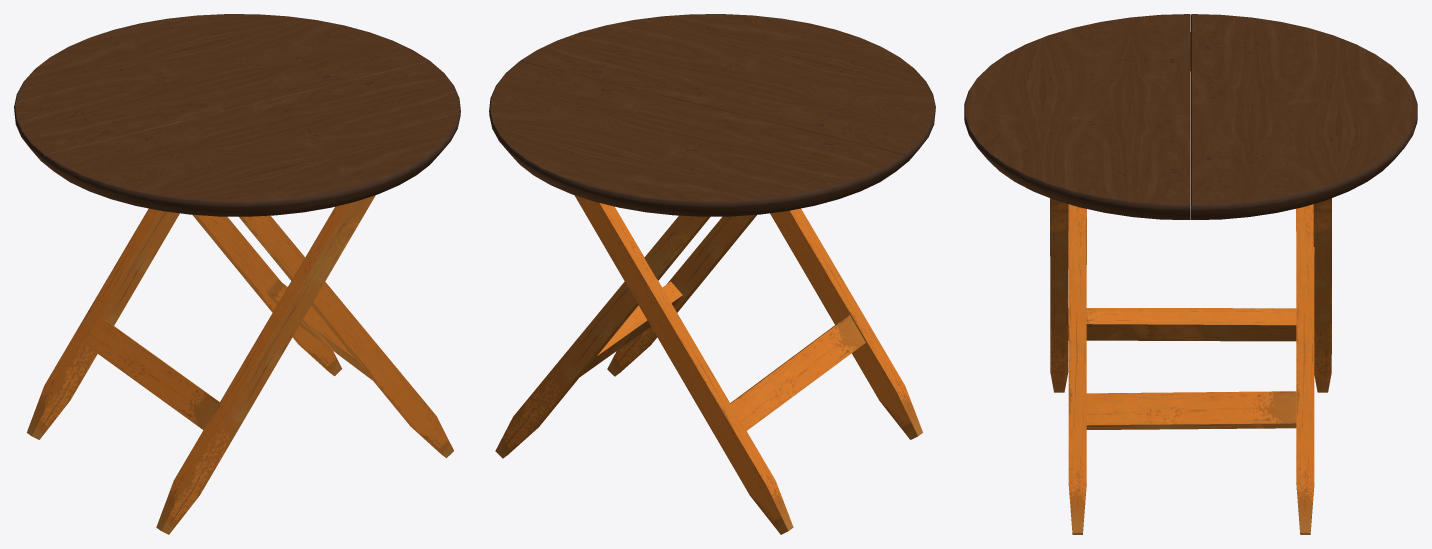
Rendered from SM_OutsideTable_A1.fbx.
3 renders of one model, left to right at view 1: azimuth 30°, elevation 25°; view 2: azimuth 150°, elevation 25°; view 3: azimuth 270°, elevation 25°, orthographic.
Parts seen in each view (by area): view 1: SM_OutsideTable_A1; view 2: SM_OutsideTable_A1; view 3: SM_OutsideTable_A1.
Part boxes in pixels (left/top/right/bottom): SM_OutsideTable_A1: left=14, top=14, right=460, bottom=534; SM_OutsideTable_A1: left=489, top=14, right=935, bottom=534; SM_OutsideTable_A1: left=964, top=14, right=1417, bottom=534.
Size of the model in its own units: 60.21 by 60.04 by 51.22.
Materials: 2 (2 with a texture image).
